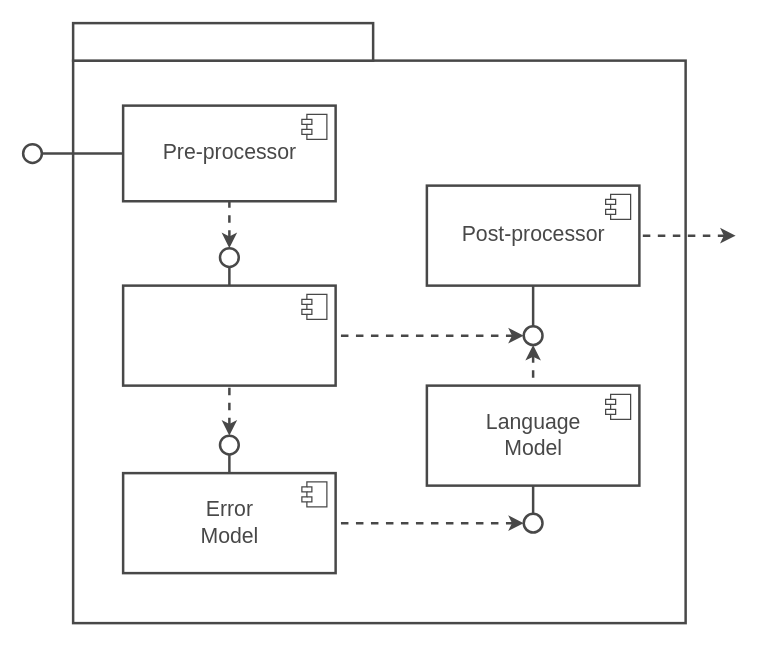
Image size: 768x645. Some labels were removed from this diagram. The centre of each missing label's shape, as x and y in pixels:
"Error Detector" belongs at (x=228, y=335).
"Spelling correction tool" belongs at (x=222, y=41).
